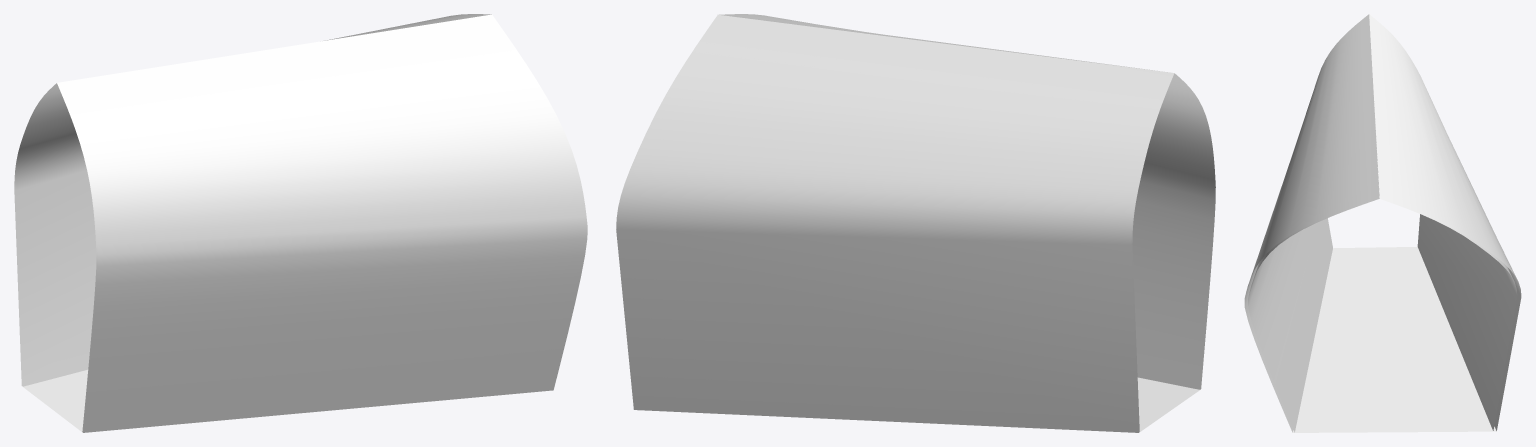
The model's file is Rays.FBX.
3 views of the same model, side by side, from view 1: azimuth 30°, elevation 25°; view 2: azimuth 150°, elevation 25°; view 3: azimuth 270°, elevation 25° (orthographic). The views are drawn at different scales.
Visible parts, largest first — view 1: rays; view 2: rays; view 3: rays.
Part boxes in pixels (left/top/right/bottom): rays: left=14, top=14, right=587, bottom=432; rays: left=616, top=14, right=1215, bottom=432; rays: left=1244, top=14, right=1521, bottom=432.
Size of the model in its own units: 430 by 349 by 329.
